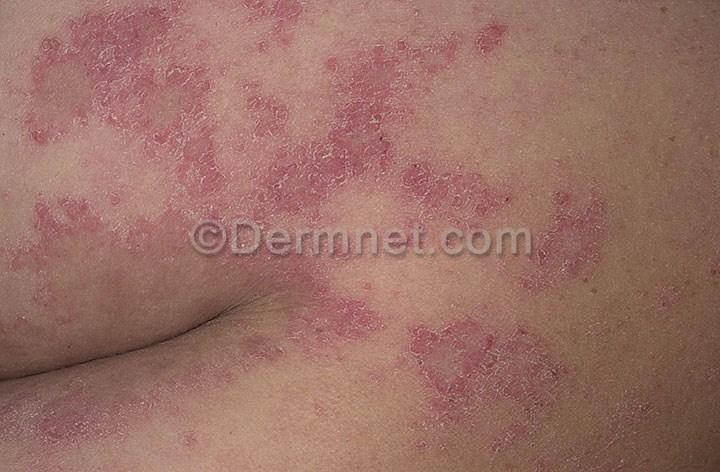Eczema: (61, 240, 149, 313), (20, 59, 88, 136), (376, 116, 434, 204), (236, 90, 310, 151), (30, 382, 105, 440), (530, 222, 587, 295), (549, 185, 615, 248), (139, 56, 202, 118), (141, 221, 202, 284), (458, 8, 523, 61), (231, 333, 299, 383), (0, 237, 58, 295), (202, 335, 257, 396), (85, 58, 133, 127), (246, 0, 312, 50), (77, 13, 146, 60), (176, 115, 219, 188), (15, 402, 69, 460), (217, 136, 276, 188), (158, 358, 215, 410), (341, 267, 399, 317), (305, 300, 373, 342), (231, 180, 293, 226), (241, 248, 299, 297), (122, 379, 179, 428), (294, 249, 341, 307), (173, 195, 233, 240), (141, 1, 188, 58), (200, 53, 257, 99), (296, 208, 350, 256), (331, 118, 374, 178), (594, 401, 654, 443), (572, 232, 612, 294), (384, 18, 426, 77), (432, 19, 484, 66), (64, 193, 113, 239), (279, 144, 313, 209), (257, 308, 304, 355), (353, 36, 403, 80), (386, 203, 426, 258), (537, 437, 608, 467), (355, 70, 404, 113), (46, 286, 95, 329), (0, 383, 35, 443), (312, 0, 427, 18), (19, 197, 62, 245), (167, 418, 208, 468), (27, 23, 85, 58), (455, 169, 489, 227), (309, 139, 339, 204), (432, 208, 464, 267), (306, 87, 353, 127), (3, 311, 61, 343), (441, 377, 494, 412), (636, 365, 680, 407), (664, 392, 712, 430), (248, 27, 290, 69), (508, 256, 549, 299), (400, 414, 445, 453), (651, 431, 698, 468), (497, 185, 541, 224), (499, 373, 542, 412), (347, 361, 387, 402), (99, 180, 139, 220), (210, 248, 249, 289), (460, 346, 503, 383), (464, 430, 503, 470), (505, 329, 548, 365), (148, 123, 182, 168), (317, 50, 357, 88), (670, 267, 710, 305), (411, 45, 448, 86), (501, 418, 538, 458), (398, 326, 434, 367), (461, 307, 503, 342), (285, 403, 331, 433), (540, 364, 578, 399), (396, 220, 435, 254), (431, 167, 464, 207), (545, 39, 581, 75), (697, 346, 720, 402), (139, 355, 186, 382), (576, 32, 612, 66), (694, 243, 720, 288), (185, 26, 221, 58), (641, 282, 679, 311), (104, 404, 135, 437), (330, 172, 361, 204), (79, 148, 111, 173)
